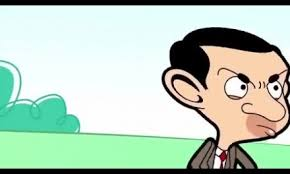mrbean: (162, 27, 290, 168)
